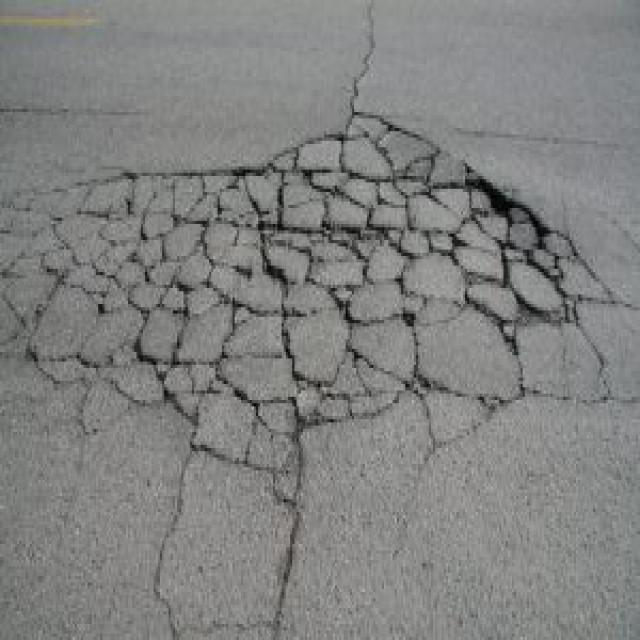Drain Hole: (42, 173, 640, 412)
